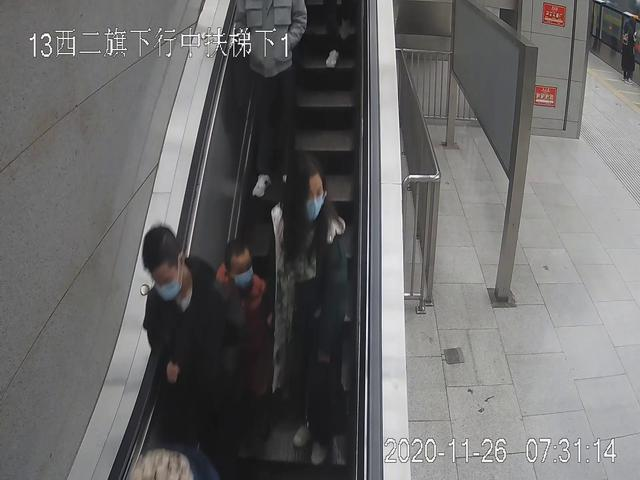person: (141, 223, 250, 471), (270, 158, 349, 464), (235, 1, 305, 196), (212, 240, 268, 401)
